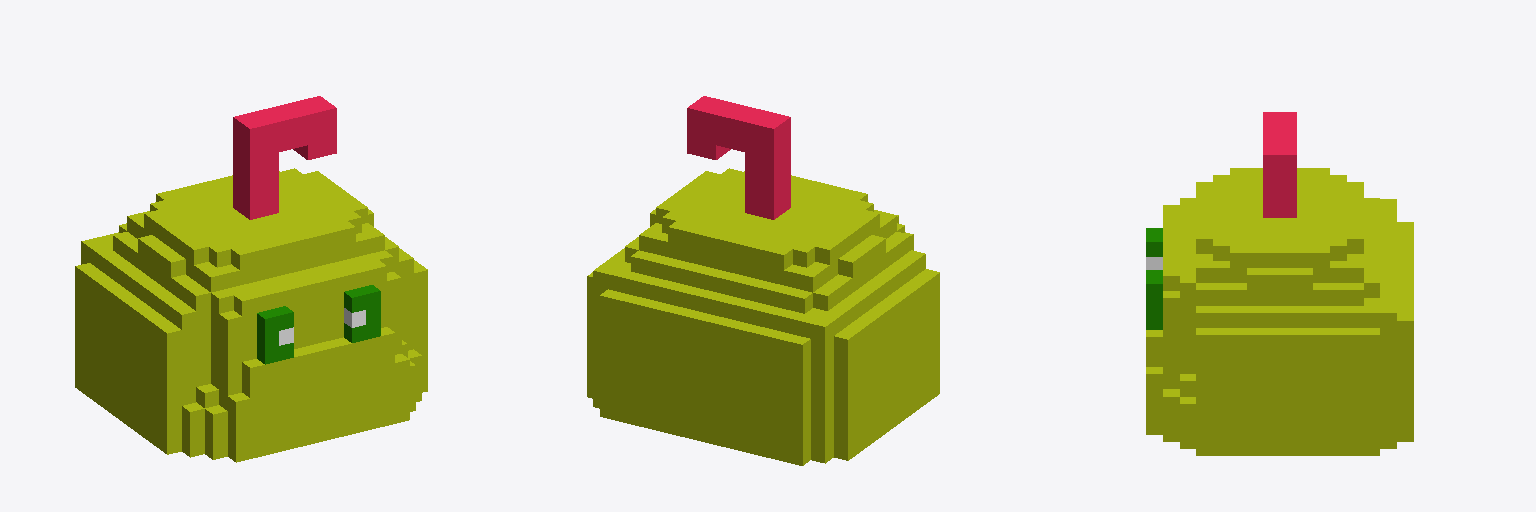
3 views of the same model, side by side, from view 1: azimuth 30°, elevation 25°; view 2: azimuth 150°, elevation 25°; view 3: azimuth 270°, elevation 25° (orthographic).
Visible parts, largest first — view 1: object 1; view 2: object 1; view 3: object 1.
Part boxes in pixels (x1,y1,x2,y2): object 1: (75, 96, 427, 462); object 1: (587, 96, 939, 465); object 1: (1146, 112, 1413, 455).
Bounding box in the file's own units: 1.8 × 1.8 × 1.6.
1 materials, 1 textured.